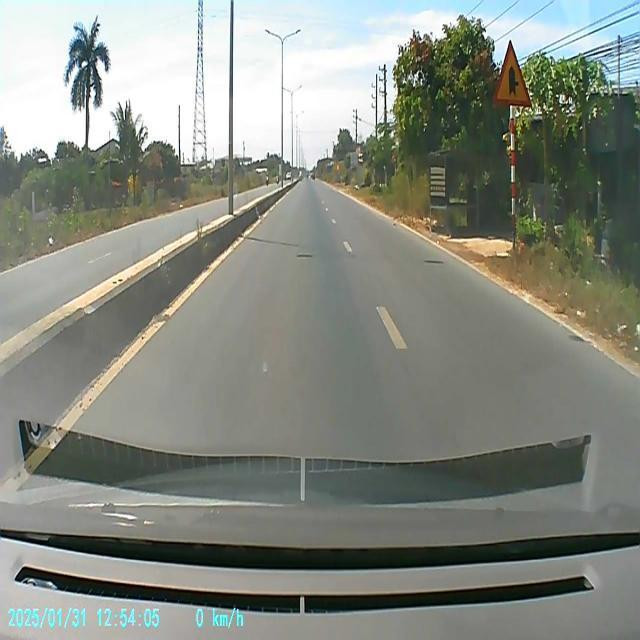207-giao-nhau-voi-duong-khong-uu-tien: (493, 40, 531, 109)
